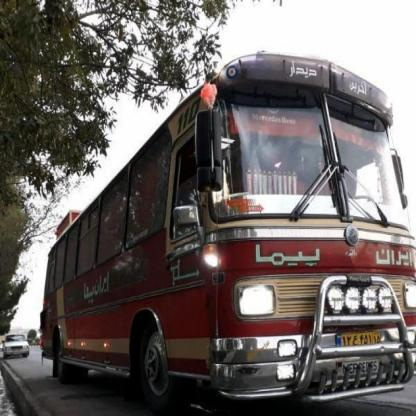Bus: (33, 50, 414, 406)
Car: (0, 331, 30, 356)
